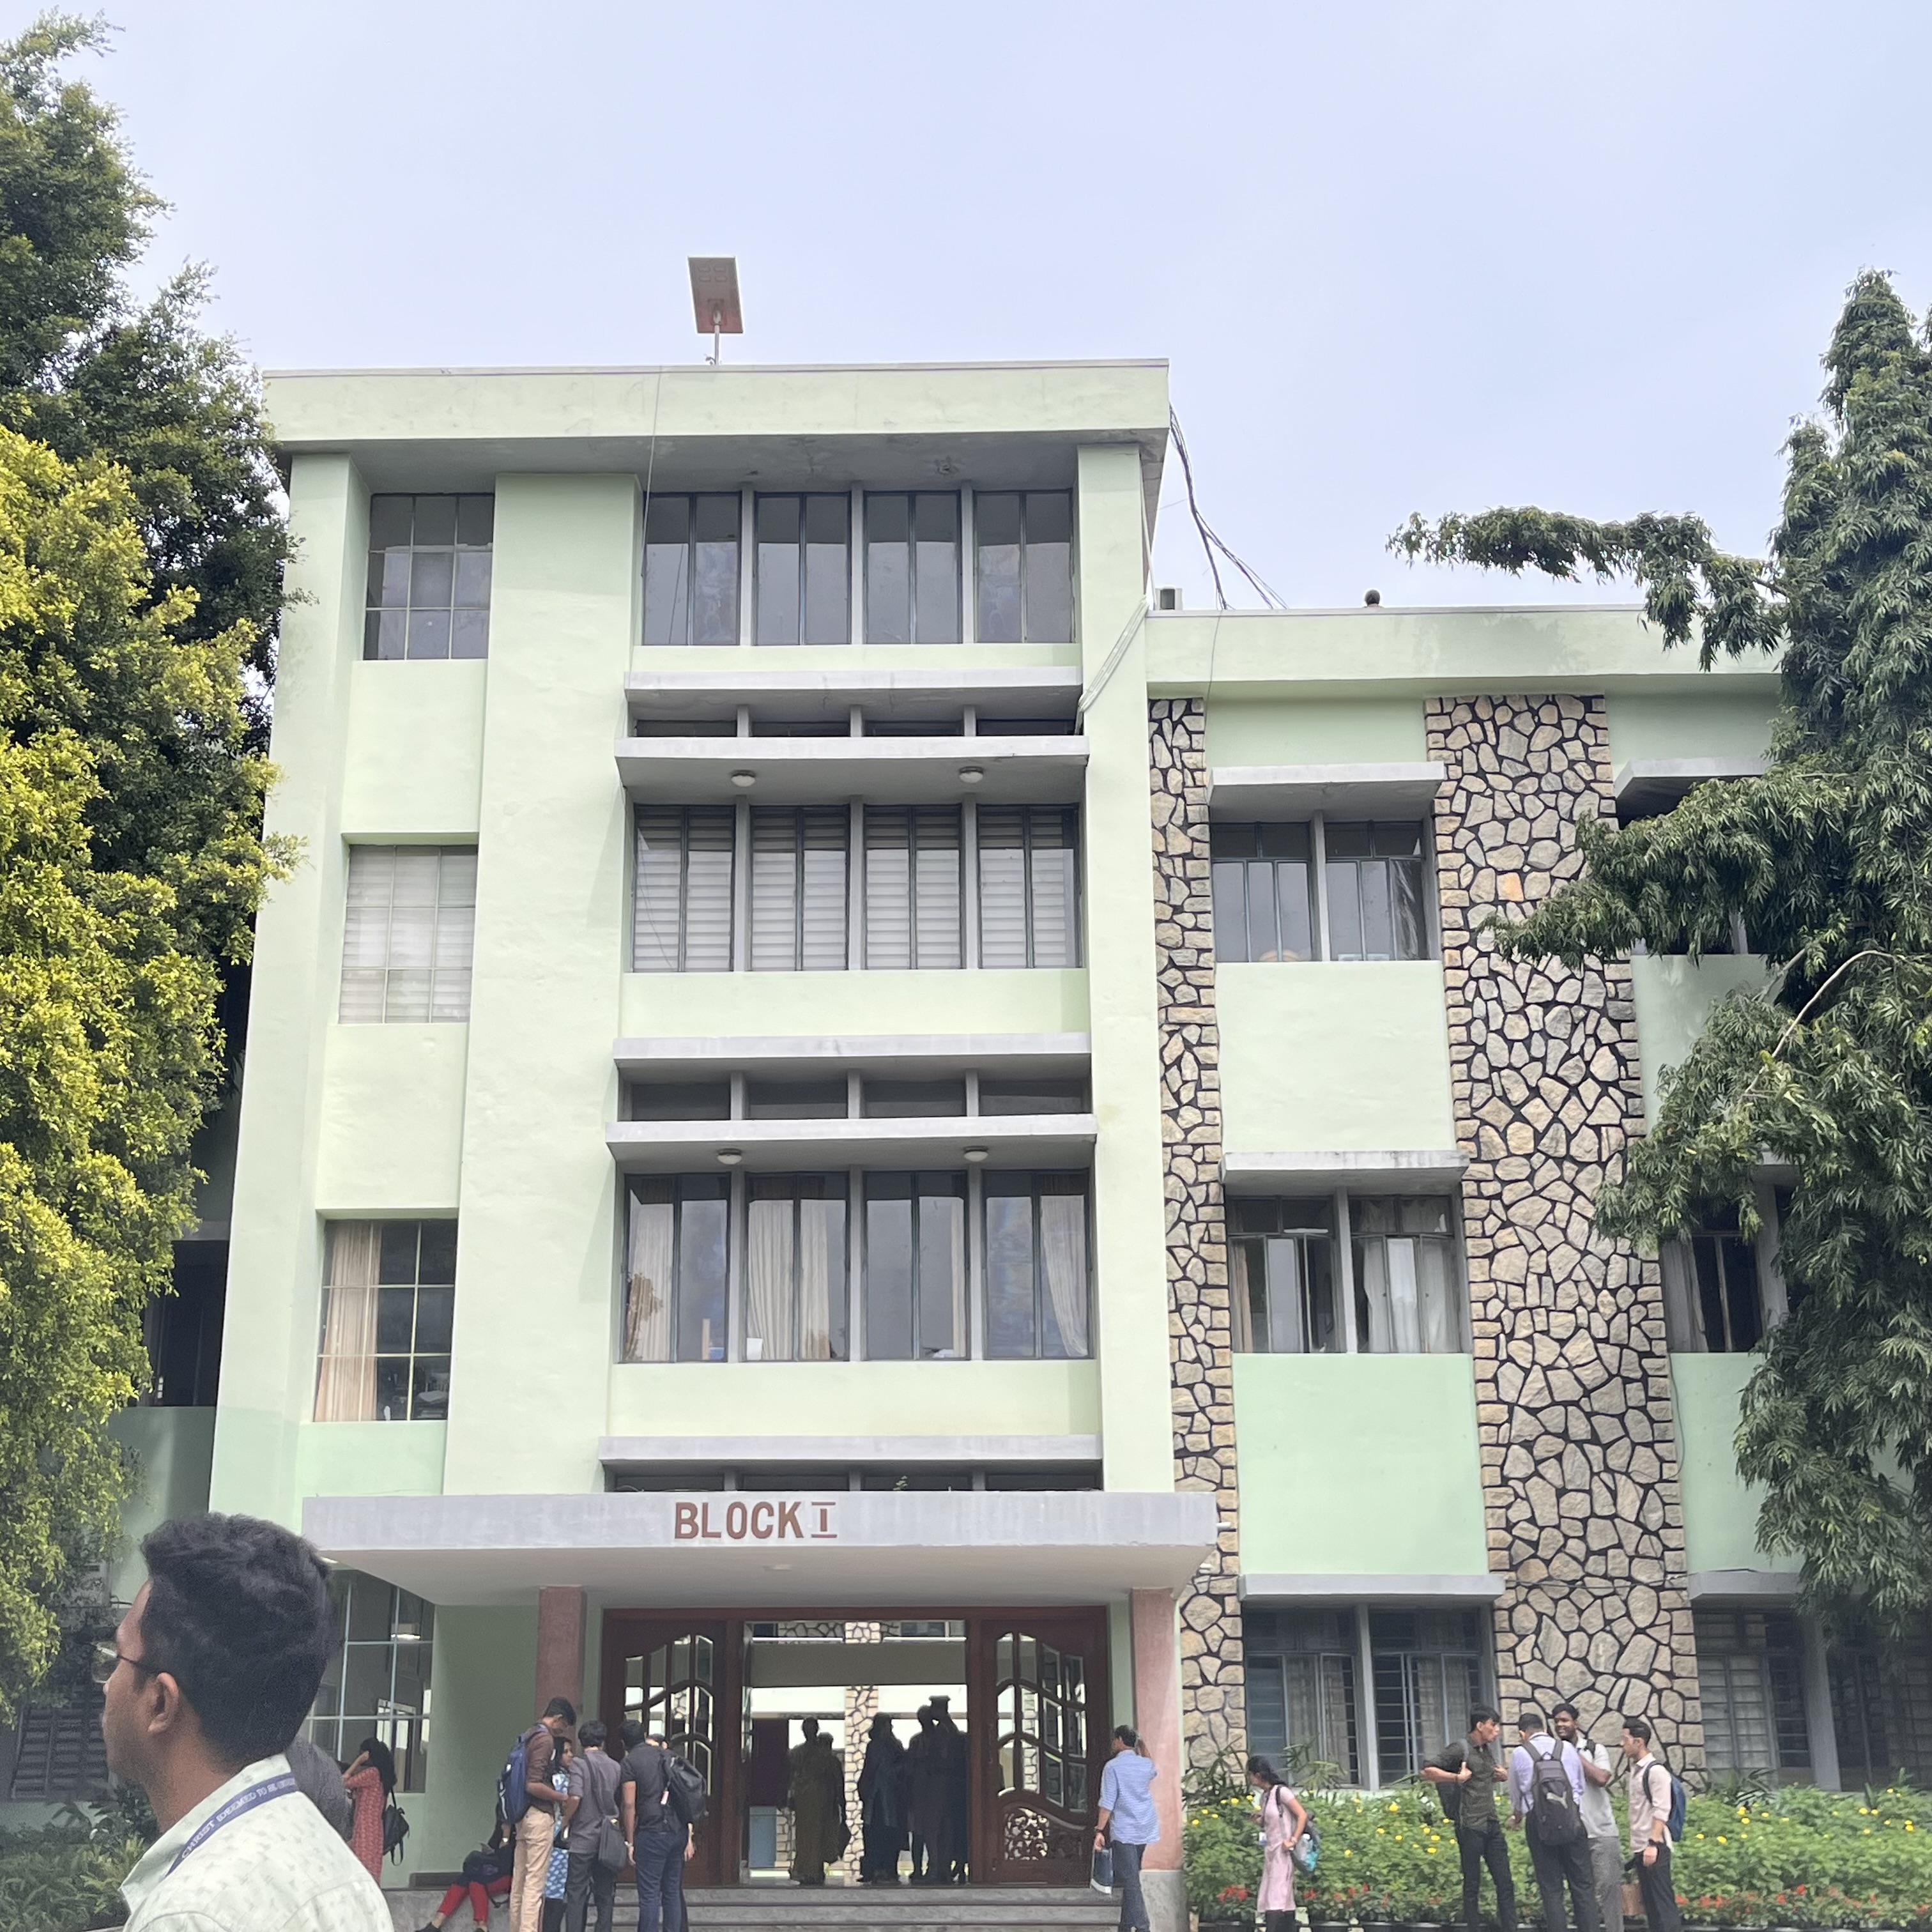Block 1: (253, 310, 1821, 1688)
